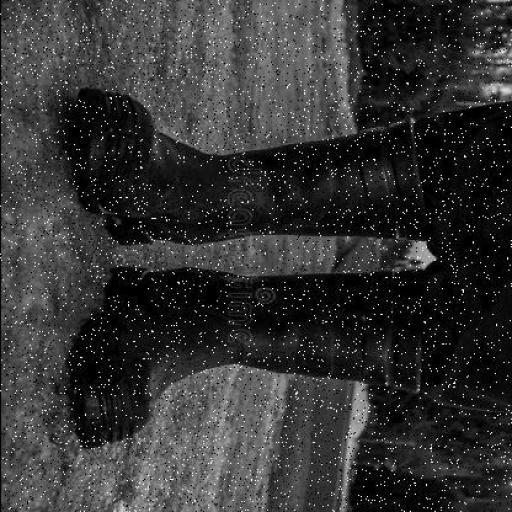safety_shoe: (76, 257, 419, 445), (75, 84, 419, 248)
